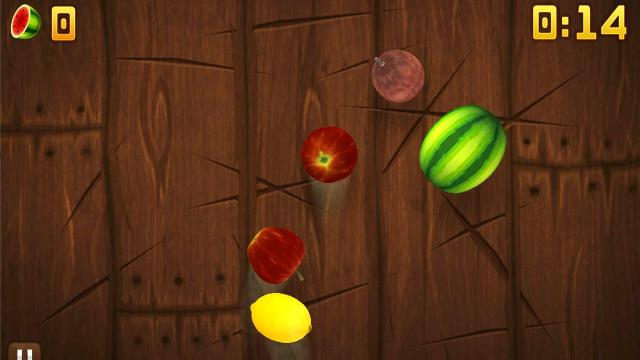fruit: (419, 103, 507, 192), (247, 225, 306, 285), (301, 125, 359, 183), (248, 292, 314, 342), (370, 48, 426, 103)
ignore: (8, 2, 44, 42)
